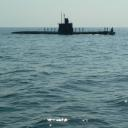submarine: (12, 25, 117, 36)
